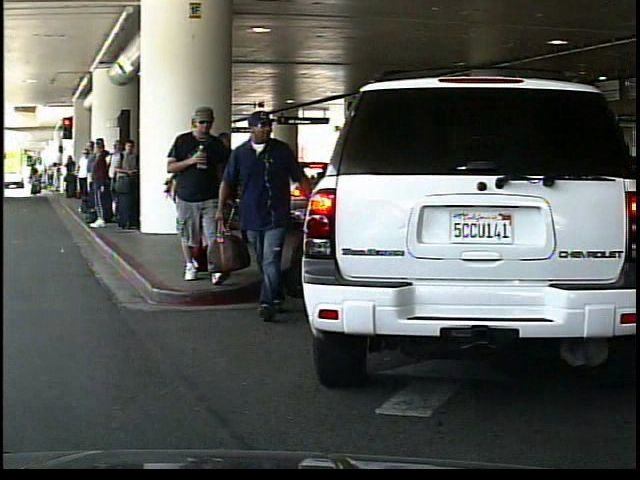person: (222, 104, 307, 324), (170, 106, 231, 285), (210, 136, 251, 248)
